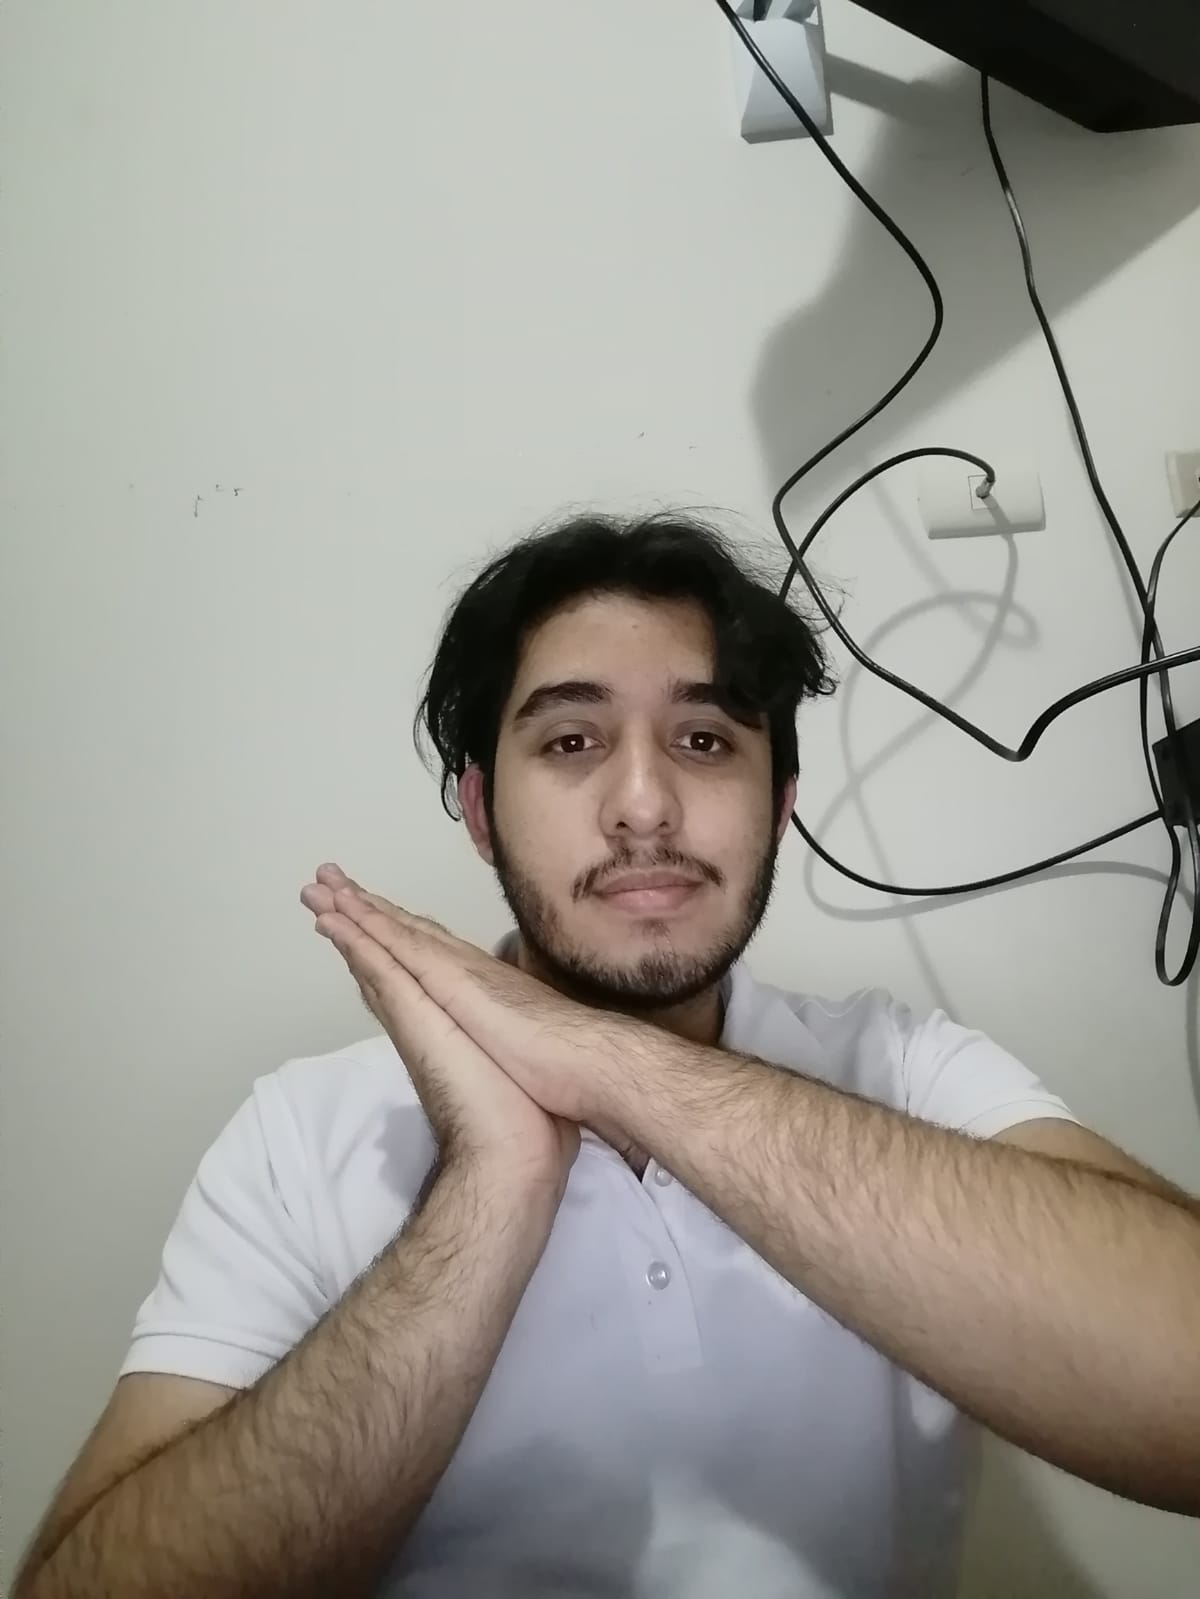Bed: (261, 840, 669, 1206)
